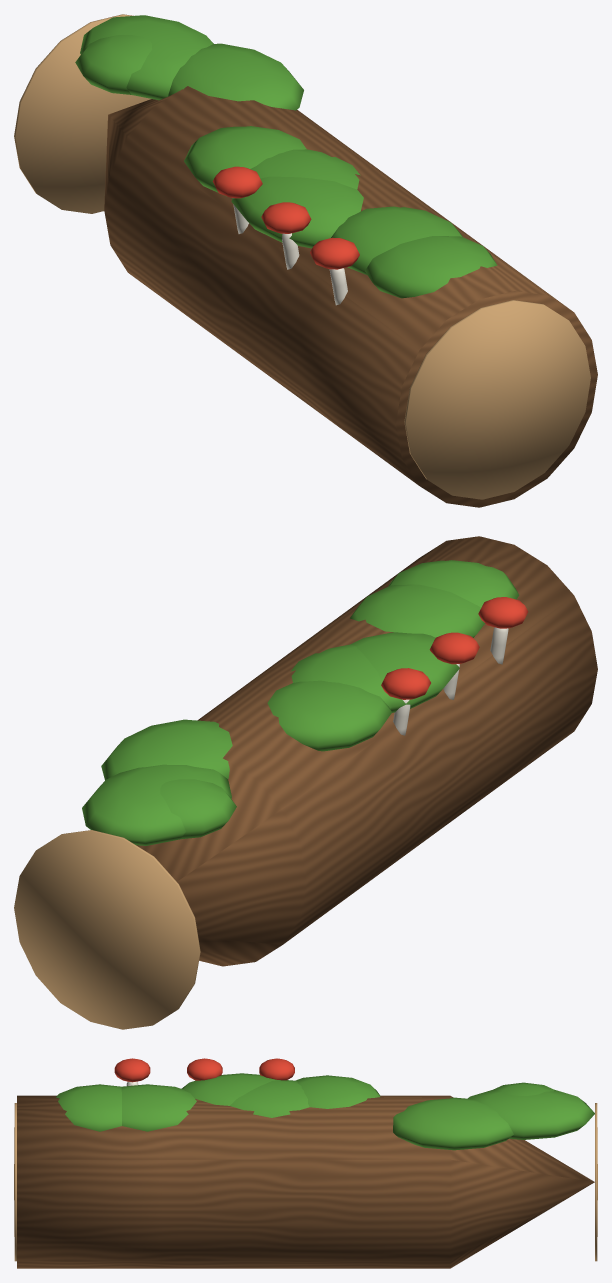
Rendered from MossyLog.fbx.
3 views of the same model, one above another, from view 1: azimuth 30°, elevation 25°; view 2: azimuth 150°, elevation 25°; view 3: azimuth 270°, elevation 25° (orthographic). The views are drawn at different scales.
Visible parts, largest first — view 1: MossyLog; view 2: MossyLog; view 3: MossyLog.
Part boxes in pixels (x1,y1,x2,y2): MossyLog: (14, 14, 597, 507); MossyLog: (14, 536, 597, 1029); MossyLog: (14, 1058, 597, 1268).
Size of the model in its own units: 123 by 128 by 404.
Materials: 1 (1 with a texture image).
